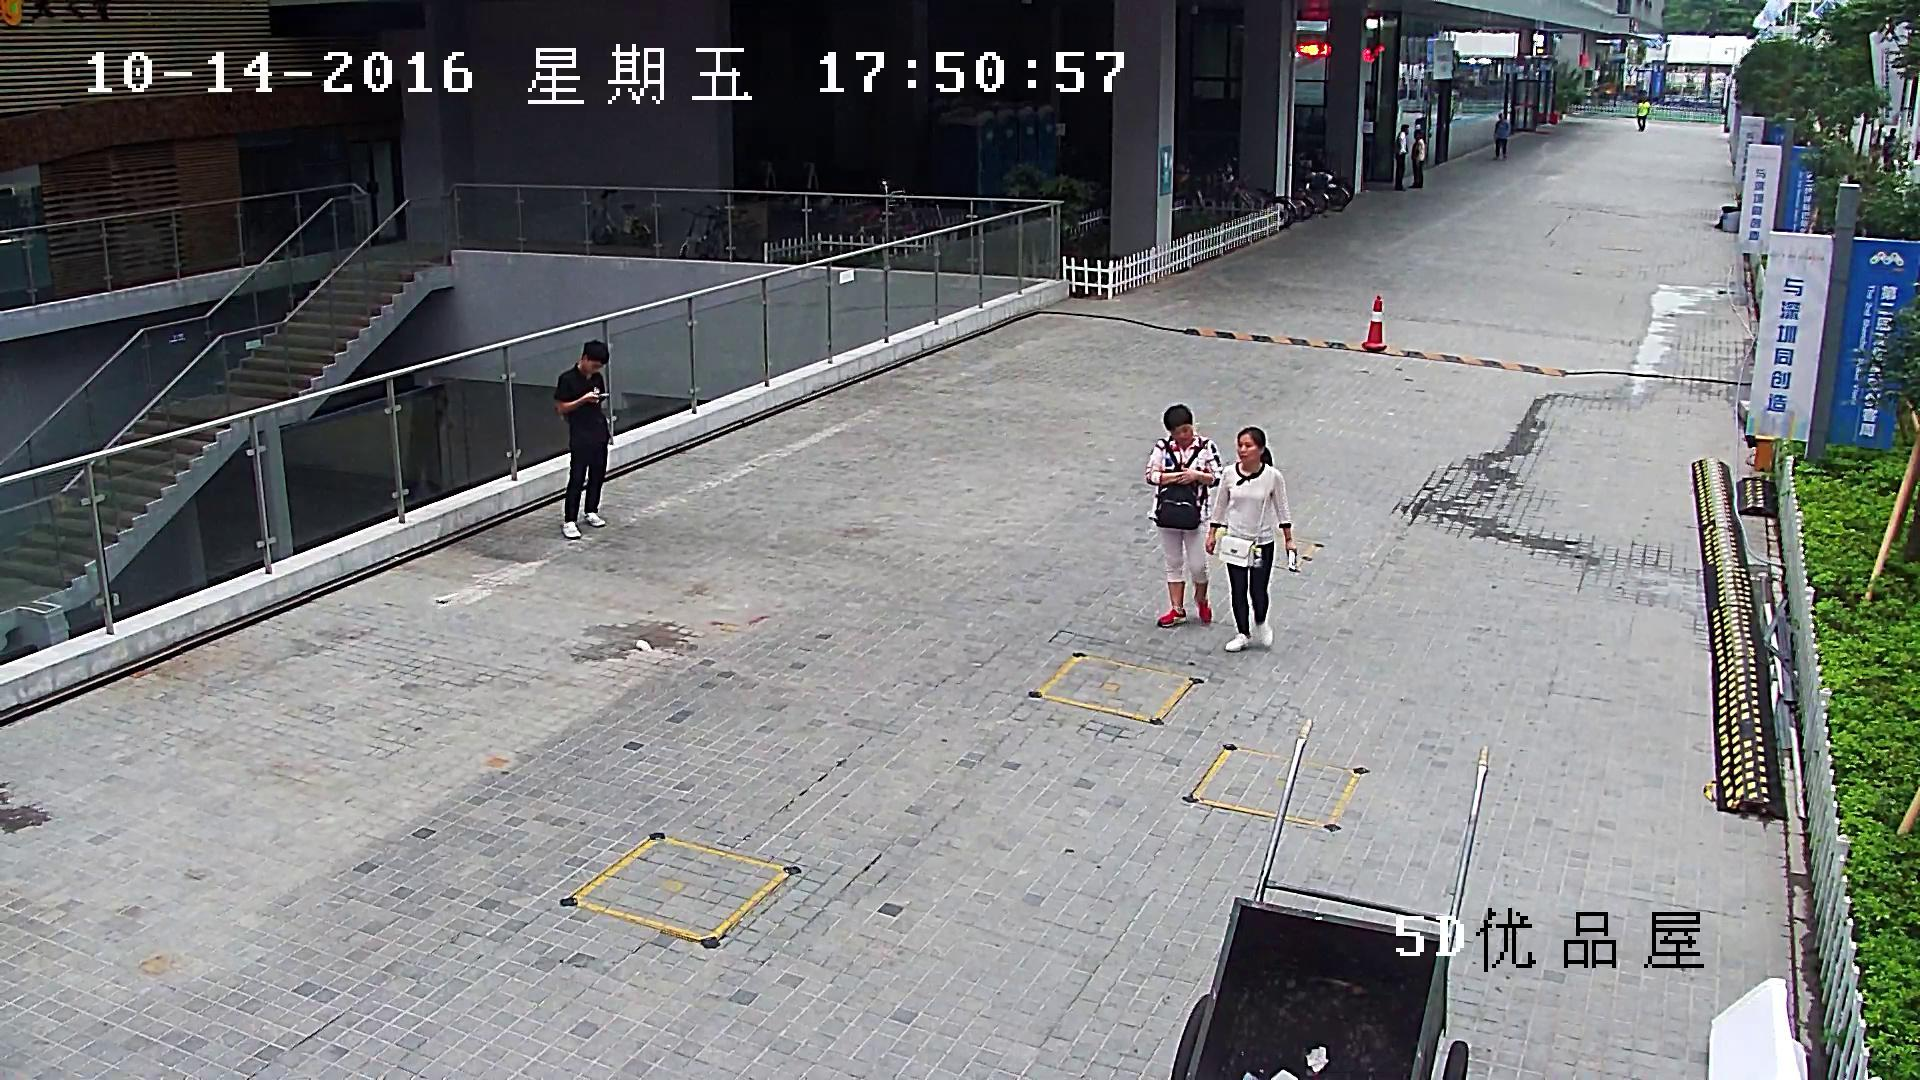person: (1204, 426, 1297, 652), (1144, 403, 1224, 627), (553, 339, 609, 539), (1393, 123, 1409, 191), (1410, 128, 1425, 187), (1492, 112, 1511, 160), (1636, 98, 1650, 131)
